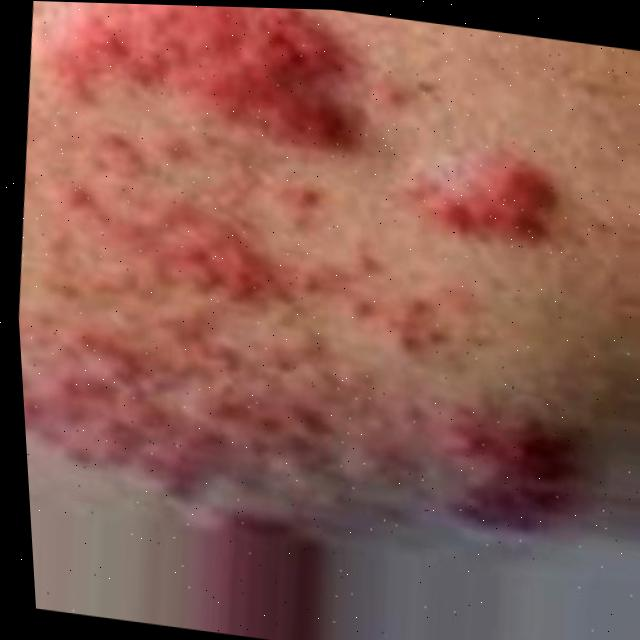Shingles: (0, 0, 629, 552)
